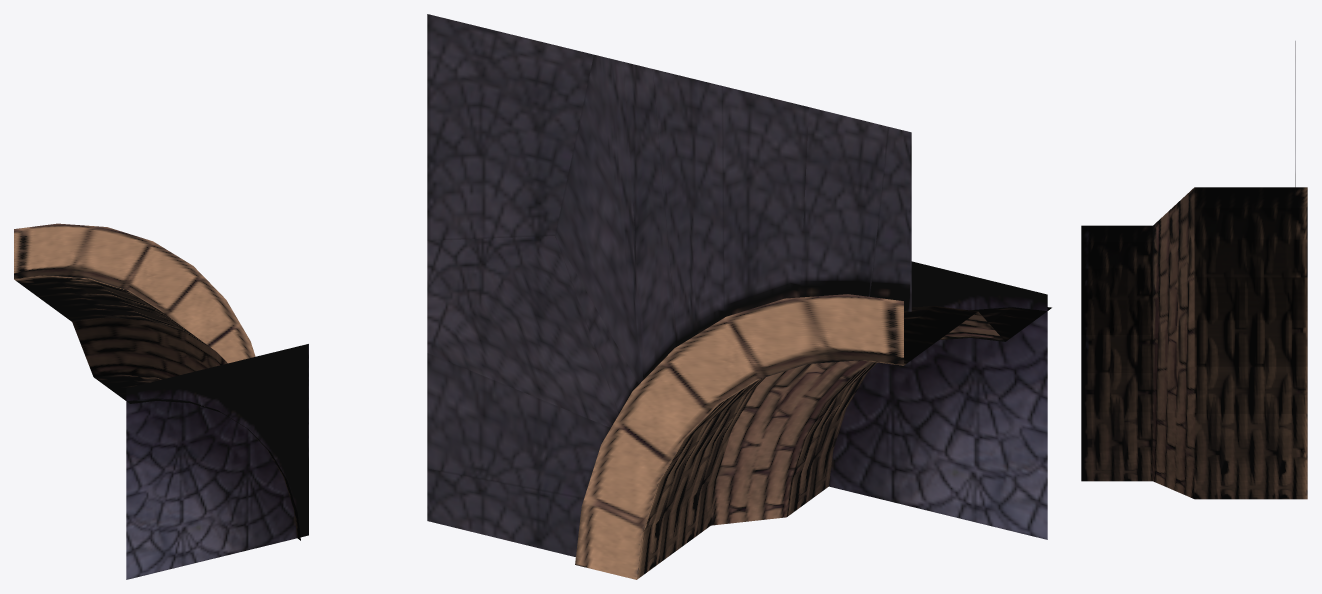
File: ex_InCorner3.obj
3 views of the same model, side by side, from view 1: azimuth 30°, elevation 25°; view 2: azimuth 150°, elevation 25°; view 3: azimuth 270°, elevation 25° (orthographic). The views are drawn at different scales.
Visible parts, largest first — view 1: ex_InCorner3_Cube.006; view 2: object 2, ex_InCorner3_Cube.006; view 3: ex_InCorner3_Cube.006.
Boxes of the visible parts, box(x1,y1,x2,y2) form: ex_InCorner3_Cube.006: box(14, 223, 308, 579); object 2: box(427, 14, 911, 557); ex_InCorner3_Cube.006: box(575, 261, 1051, 579); ex_InCorner3_Cube.006: box(1081, 187, 1307, 499).
Size of the model in its own units: 256 by 256 by 136.
